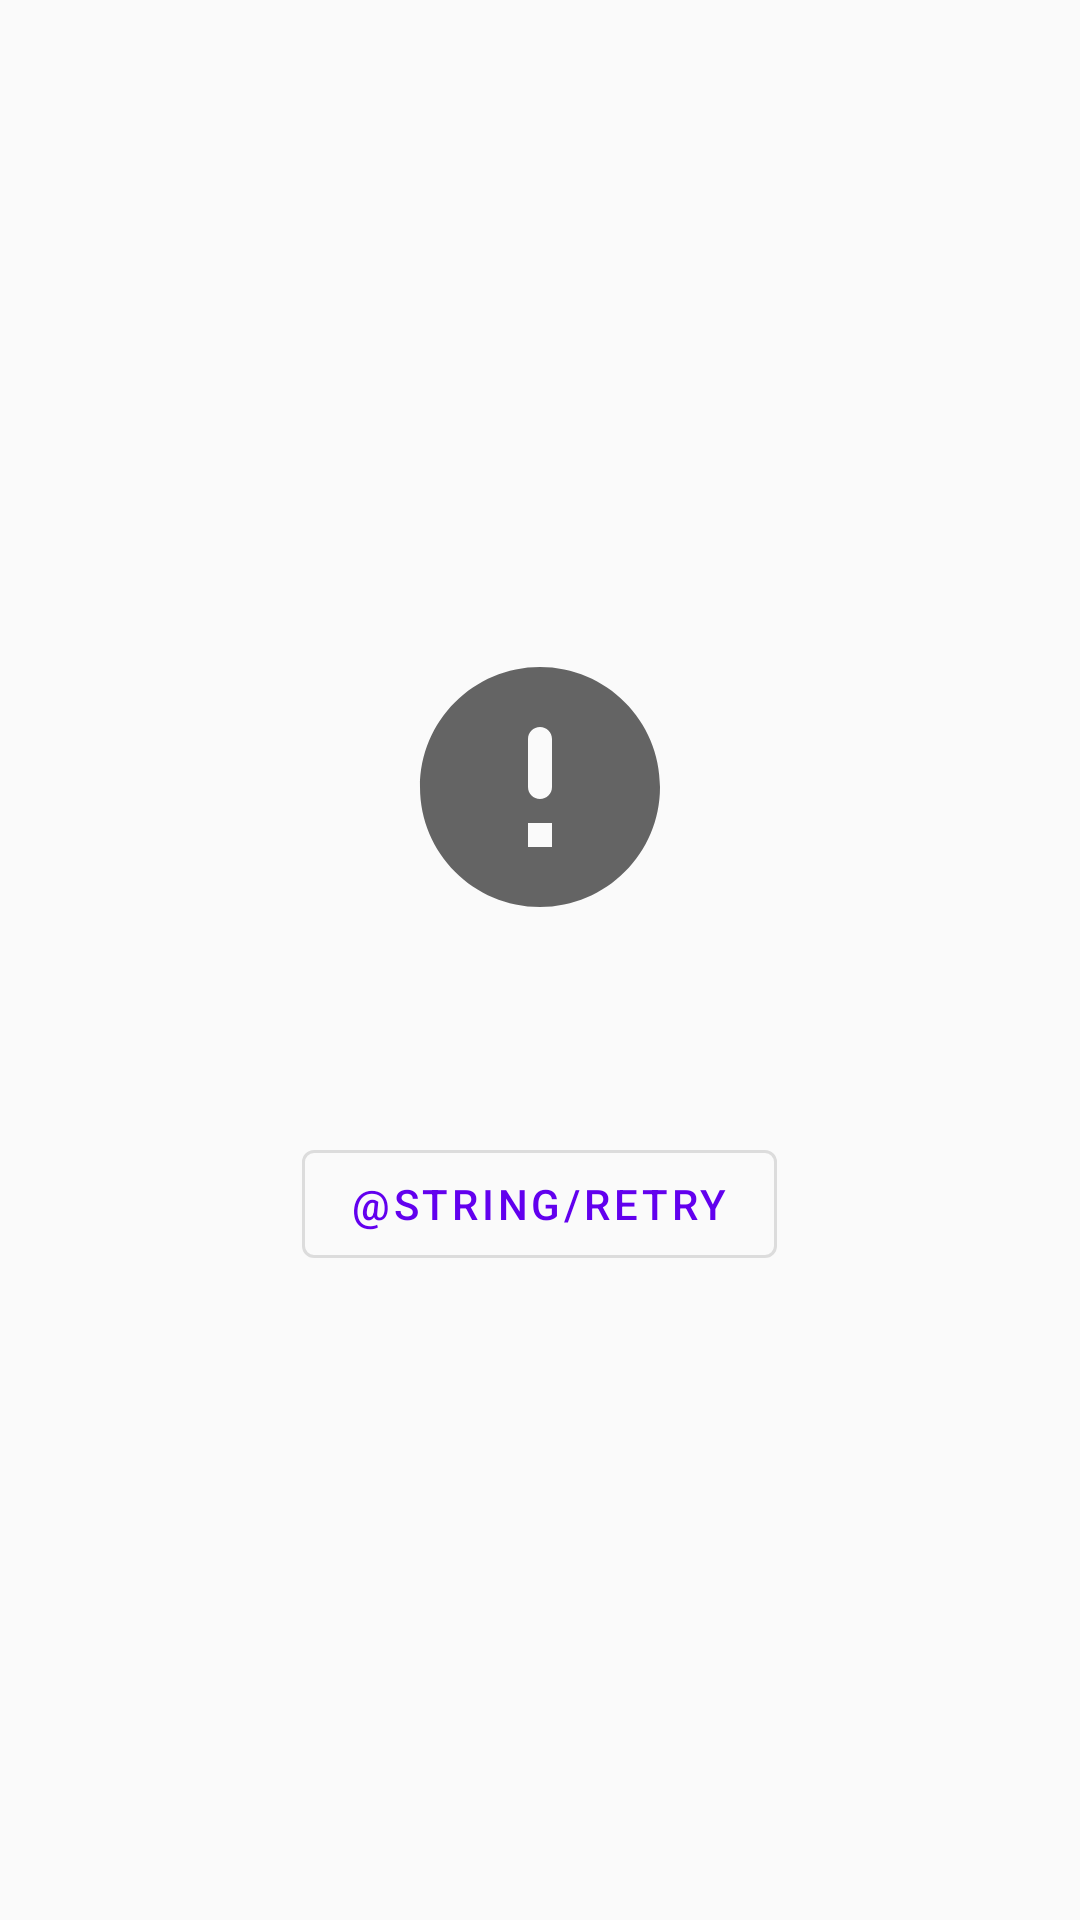

Point at icon controls on the screen. Image size 1080w x 1920h, points as point (x, y).
error: point (540, 787)
